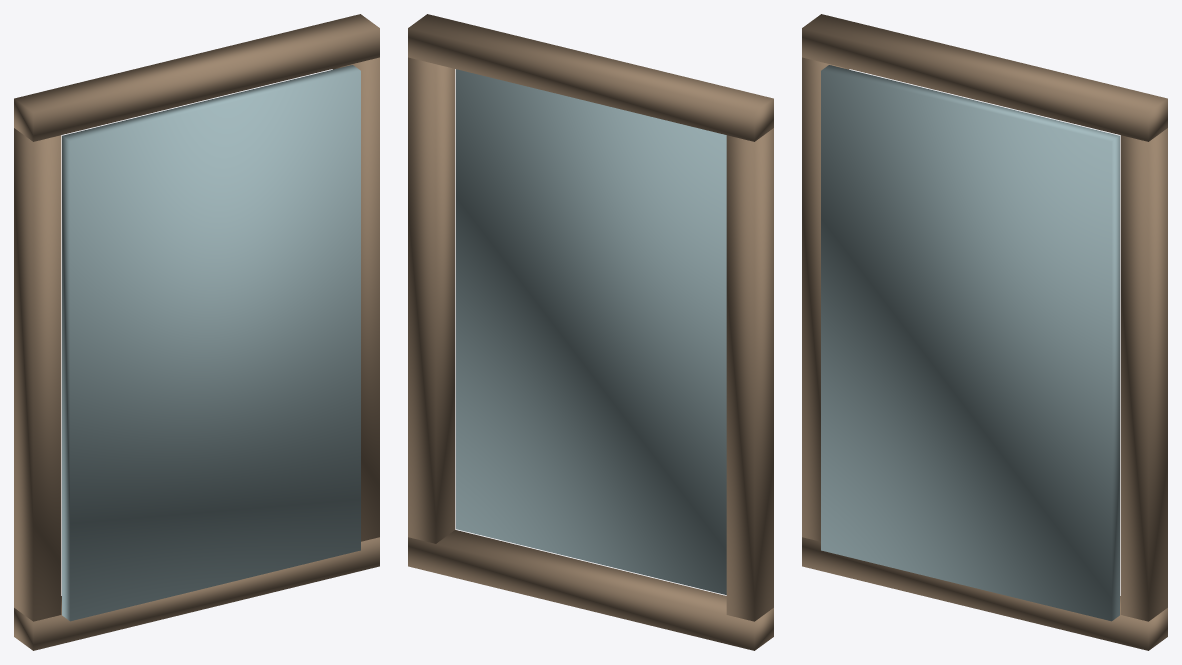
File: mirror.glb
3 views of the same model, side by side, from view 1: azimuth 30°, elevation 25°; view 2: azimuth 150°, elevation 25°; view 3: azimuth 330°, elevation 25° (orthographic).
Parts seen in each view (by area): view 1: world; view 2: world; view 3: world.
Boxes of the visible parts, x1,y1,x2,y2 form: world: (14,14,379,650); world: (408,14,773,650); world: (802,14,1167,650).
Bounding box in the file's own units: 0.62 × 0.92 × 0.0875.
